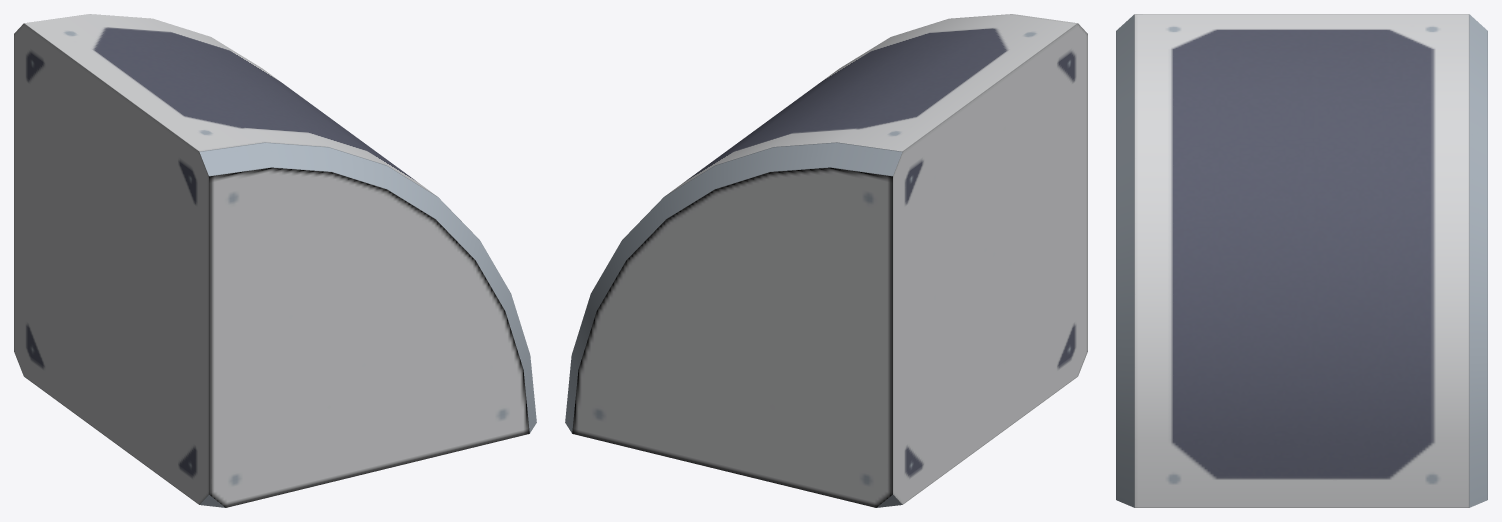
The model's file is Articulated_Angle_01.FBX.
The picture shows the model from 3 angles, left to right: view 1: azimuth 30°, elevation 25°; view 2: azimuth 150°, elevation 25°; view 3: azimuth 270°, elevation 25°; orthographic projection. The views are drawn at different scales.
Parts seen in each view (by area): view 1: Articulated_Angle_01; view 2: Articulated_Angle_01; view 3: Articulated_Angle_01.
Part boxes in pixels (x1,y1,x2,y2): Articulated_Angle_01: [14, 14, 536, 507]; Articulated_Angle_01: [565, 14, 1087, 507]; Articulated_Angle_01: [1116, 14, 1487, 507].
Size of the model in its own units: 2 by 2 by 2.
